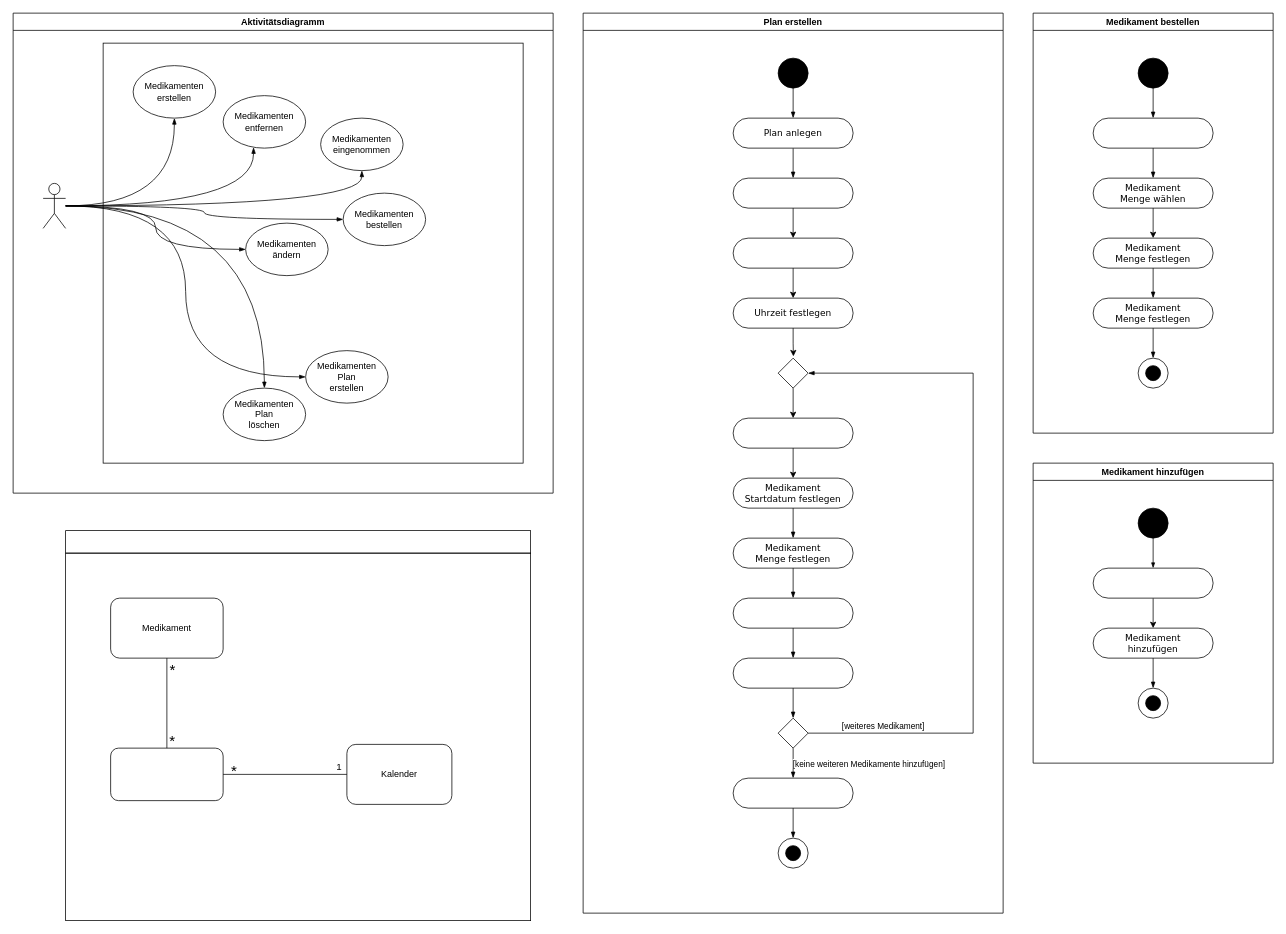
This 1286x934 diagram has some shape labels left out. The centre of each missing label's shape, as x and y in pixels:
"Benuzter" goes at point (54, 205).
"Daten eingeben" goes at point (1152, 582).
"Fachklassenmodell" goes at point (298, 541).
"Medikament auswählen" goes at point (792, 432).
"Medikament Intervall festlegen" goes at point (792, 672).
"Medikament Tageszeit festlegen" goes at point (792, 612).
"Medikament wählen" goes at point (1152, 132).
"Name festlegen" goes at point (792, 192).
"Plan" goes at point (166, 774).
"Plan aktivieren" goes at point (792, 792).
"Wochentage festlegen" goes at point (792, 252).
